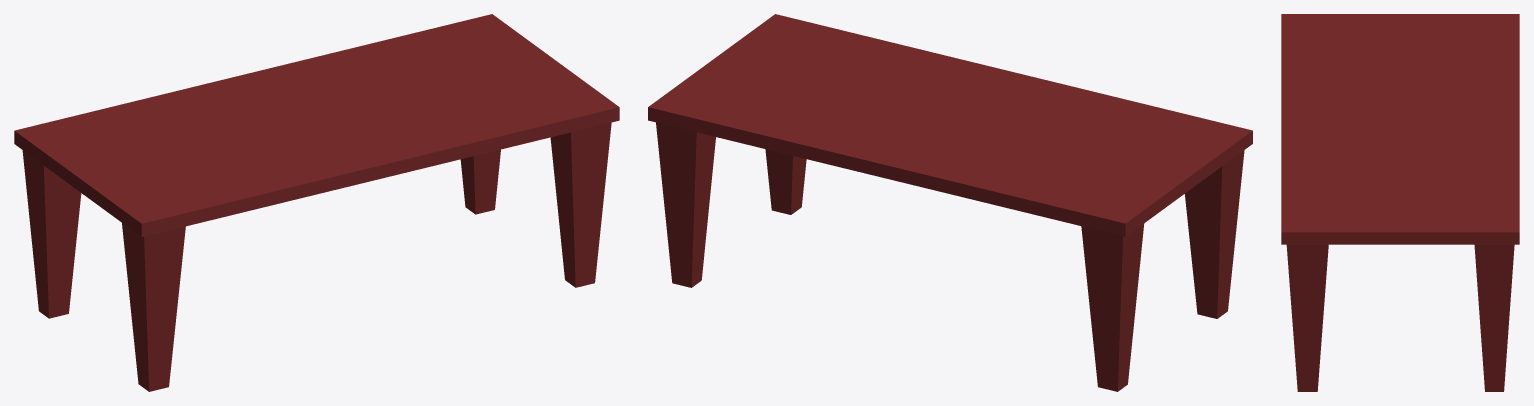
Rendered from MesaCuadrada.fbx.
3 views of the same model, side by side, from view 1: azimuth 30°, elevation 25°; view 2: azimuth 150°, elevation 25°; view 3: azimuth 270°, elevation 25° (orthographic). The views are drawn at different scales.
Parts seen in each view (by area): view 1: MesaCuad; view 2: MesaCuad; view 3: MesaCuad.
Part boxes in pixels (left/top/right/bottom): MesaCuad: left=14, top=14, right=619, bottom=391; MesaCuad: left=648, top=14, right=1252, bottom=391; MesaCuad: left=1281, top=14, right=1519, bottom=391.
Size of the model in its own units: 3.28 by 1.17 by 1.52.
